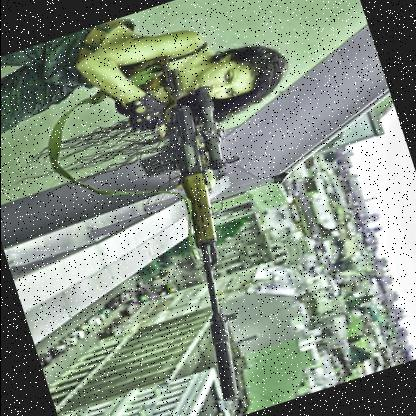rifle: (82, 41, 316, 416)
